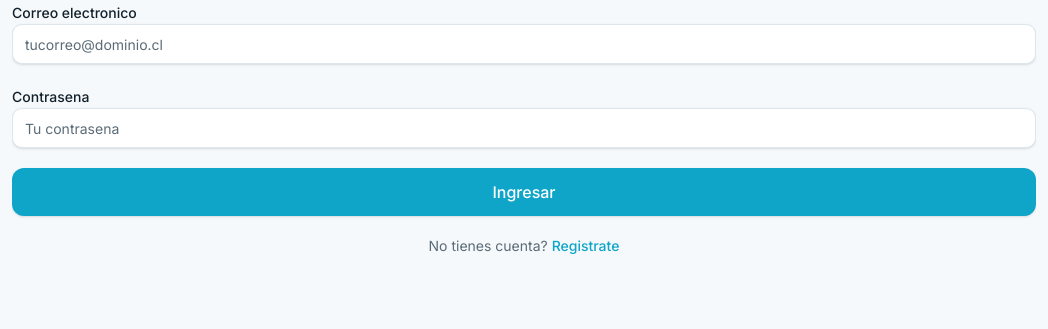
Test: AuthForm (login) › muestra el error de autenticacion cuando signIn falla
Type "cliente@demo.cl" into the field labelled "Correo electronico" at {"x": 524, "y": 44}, box [12,24,1036,64]
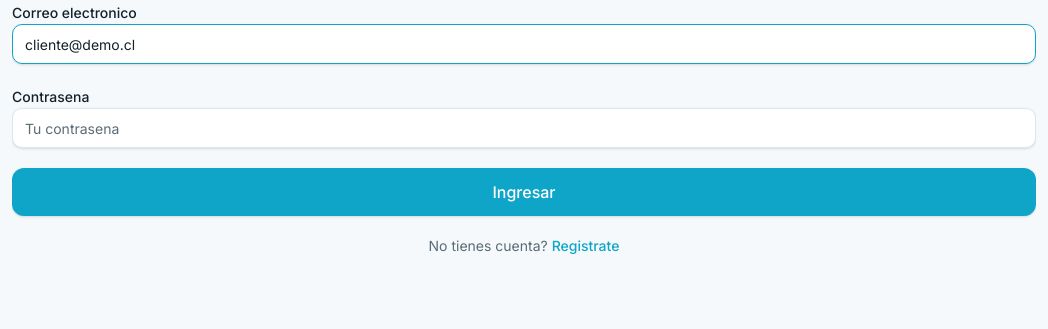
Type "clave-mala" into the password field labelled "Contrasena" at {"x": 524, "y": 128}, box [12,108,1036,148]
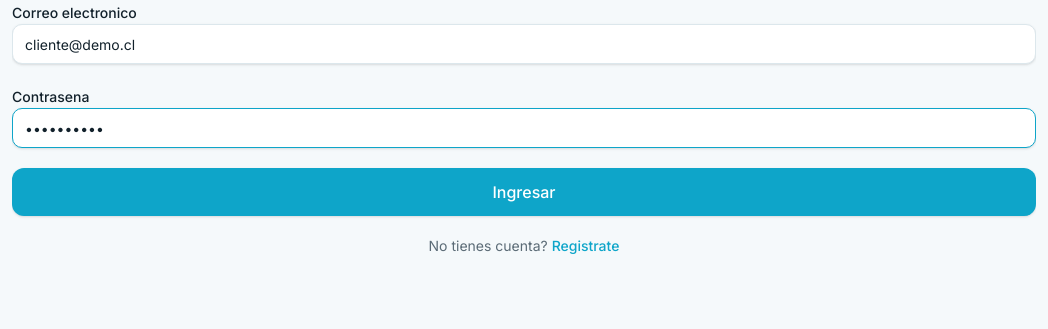
Click the button "Ingresar" at {"x": 524, "y": 192}, box [12,168,1036,216]
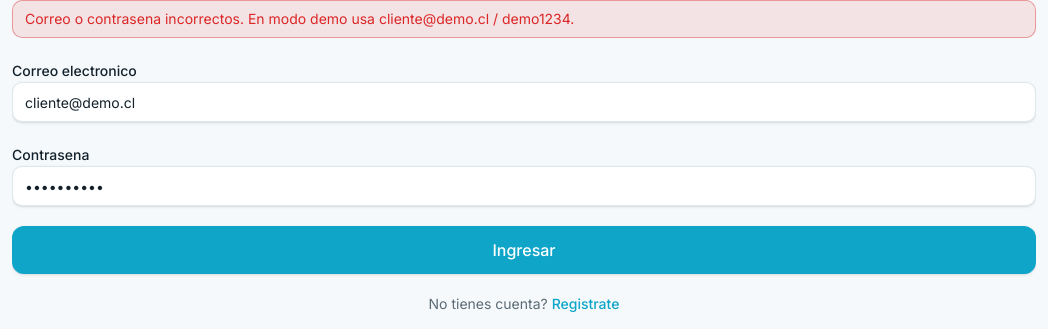
Now the message shows "Correo o contrasena incorrectos", box [25,10,574,27]
